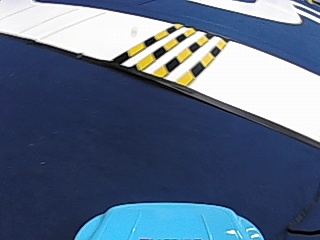bump: (101, 21, 221, 83)
